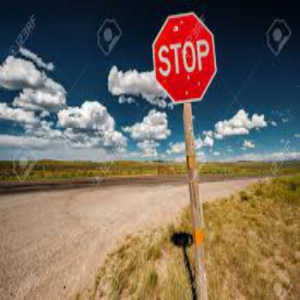STOP_SIGN: (151, 11, 217, 103)
